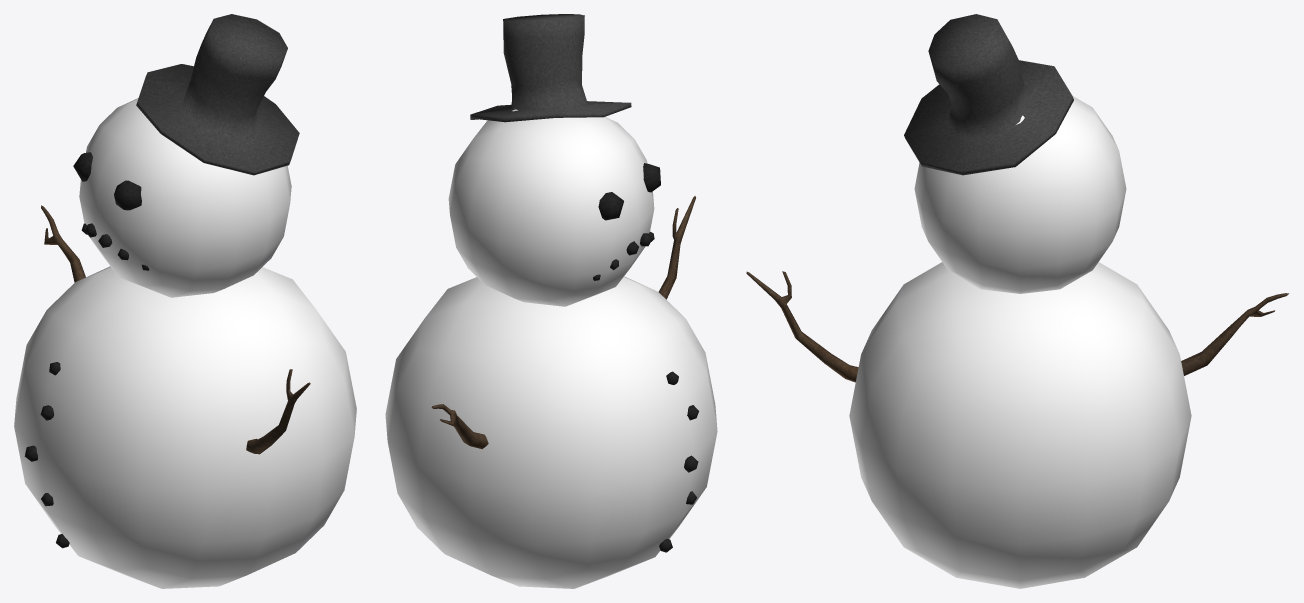
3 renders of one model, left to right at view 1: azimuth 30°, elevation 25°; view 2: azimuth 150°, elevation 25°; view 3: azimuth 270°, elevation 25°, orthographic. The views are drawn at different scales.
Parts seen in each view (by area): view 1: sm_05_body, sm_05_head, sm_05_hat, sm_05_wood, sm_05_eyes, sm_05_button; view 2: sm_05_body, sm_05_head, sm_05_hat, sm_05_wood, sm_05_eyes, sm_05_button; view 3: sm_05_body, sm_05_head, sm_05_hat, sm_05_wood.
Part boxes in pixels (<box>): sm_05_body: <box>14,266,356,588</box>; sm_05_head: <box>79,98,291,297</box>; sm_05_hat: <box>136,14,299,175</box>; sm_05_wood: <box>41,205,310,454</box>; sm_05_eyes: <box>73,152,149,270</box>; sm_05_button: <box>24,362,69,548</box>; sm_05_body: <box>385,276,717,588</box>; sm_05_head: <box>448,109,654,306</box>; sm_05_hat: <box>470,14,631,122</box>; sm_05_wood: <box>431,196,695,449</box>; sm_05_eyes: <box>593,163,660,280</box>; sm_05_button: <box>659,371,698,552</box>; sm_05_body: <box>849,262,1191,588</box>; sm_05_head: <box>914,96,1126,293</box>; sm_05_hat: <box>904,14,1073,175</box>; sm_05_wood: <box>746,271,1288,382</box>.
Bounding box in the file's own units: 194 × 301 × 342.
